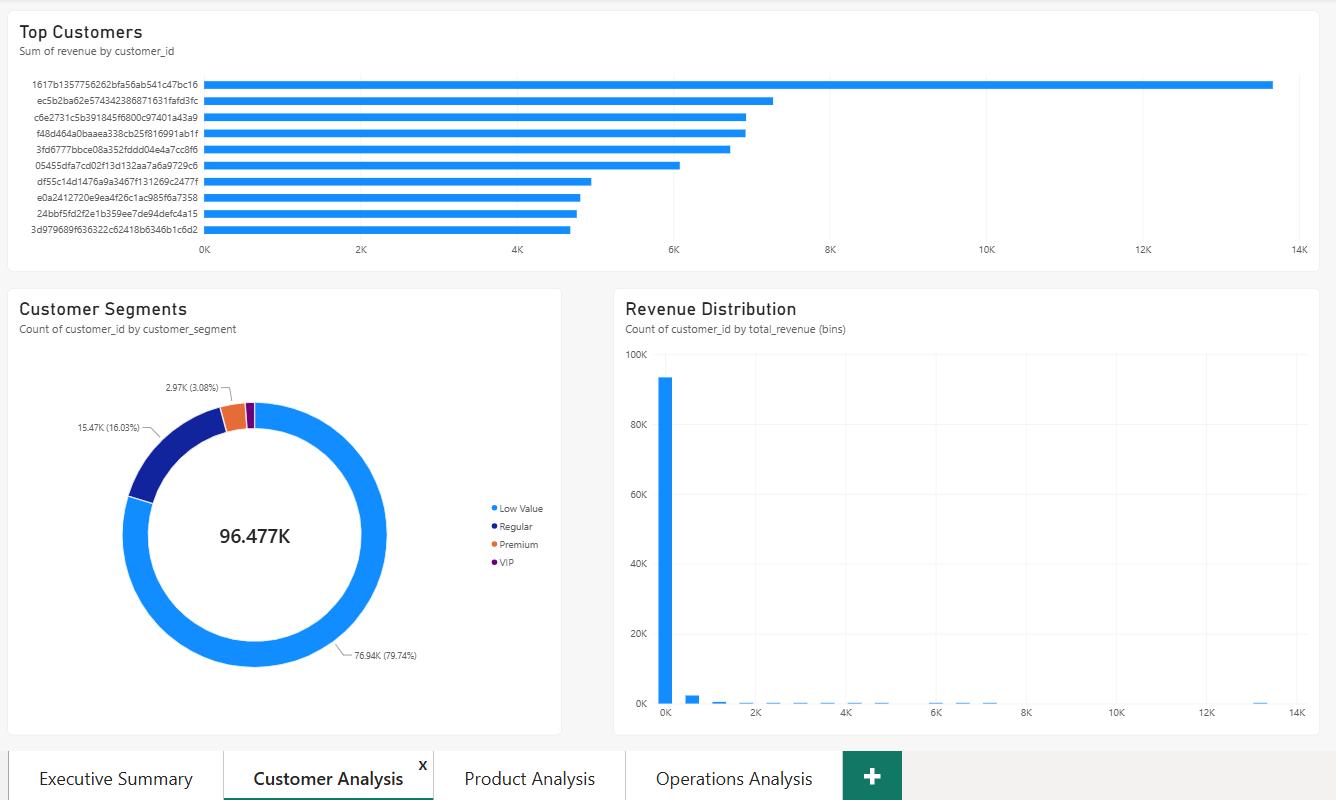

This screenshot's page, from the dashboard's own definition file:
{"tool":"powerbi","page":{"name":"Customer Analysis","canvas":[1920,1080],"ordinal":1},"visuals":[{"type":"clusteredBarChart","title":"Top Customers","fields":{"Category":["public vw_customer_revenue.customer_id"],"Y":["Sum(public vw_customer_revenue.revenue)"]},"box":[11.3,19.8,1879.4,374.2],"z":0},{"type":"donutChart","title":"Customer Segments","fields":{"Category":["public vw_customer_segments.customer_segment"],"Y":["CountNonNull(public vw_customer_segments.customer_id)"]},"box":[11.3,416.7,793.7,640.6],"z":1},{"type":"clusteredColumnChart","title":"Revenue Distribution","fields":{"Category":["public vw_customer_summary.total_revenue (bins)"],"Y":["CountNonNull(public vw_customer_summary.customer_id)"]},"box":[878.7,416.7,1012,640.6],"z":2}]}

Visuals, with their boxes on the page's 1920x1080 design canvas (x1, y1, x2, y2). These are canvas units, not pixel positions in the 1336x800 screenshot, which may show the page scaled, cropped or inside an application window:
"Top Customers" clusteredBarChart: {"x1": 11, "y1": 20, "x2": 1891, "y2": 394}
"Customer Segments" donutChart: {"x1": 11, "y1": 417, "x2": 805, "y2": 1057}
"Revenue Distribution" clusteredColumnChart: {"x1": 879, "y1": 417, "x2": 1891, "y2": 1057}
